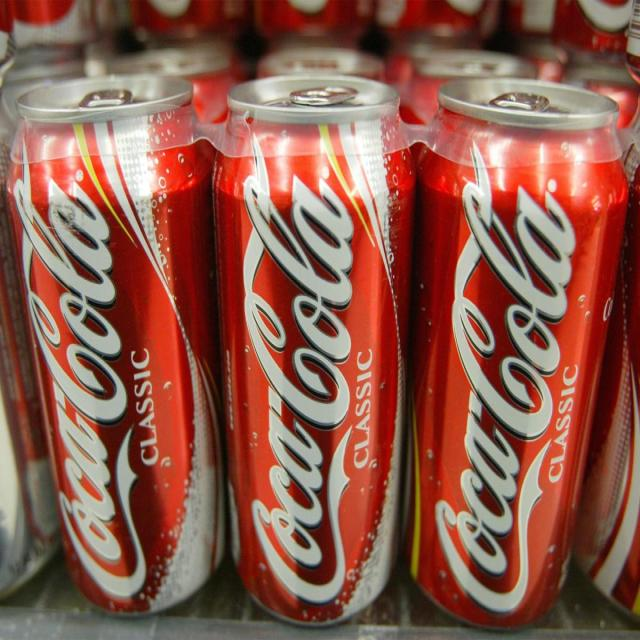cocacola: (25, 76, 215, 617), (227, 85, 412, 627), (426, 86, 601, 625)
